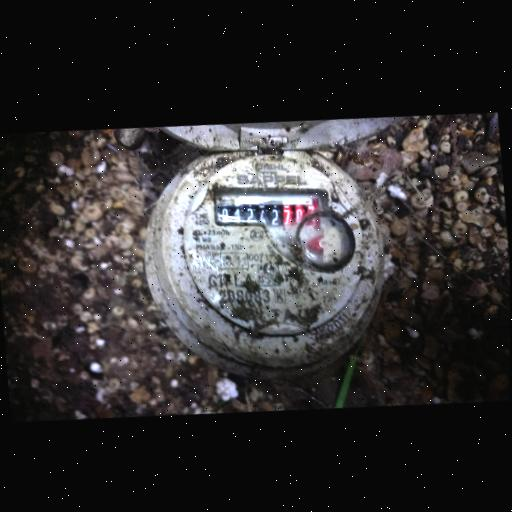0: (292, 204, 306, 227), (217, 202, 232, 223)
1: (229, 202, 245, 224)
2: (267, 203, 283, 227), (242, 202, 258, 224)
4: (255, 203, 271, 225), (304, 204, 319, 218)
7: (279, 204, 295, 228)
border_water_meter_number: (210, 177, 331, 238)
